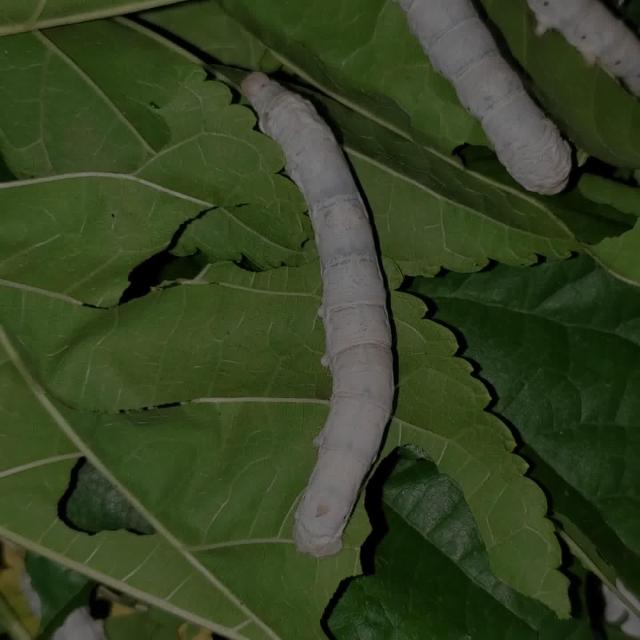Healthy: (217, 30, 407, 586)
